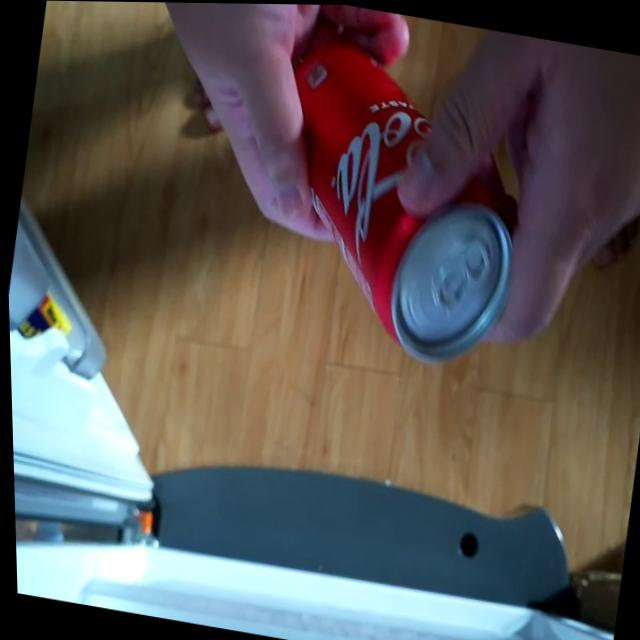coke: (239, 17, 541, 384)
